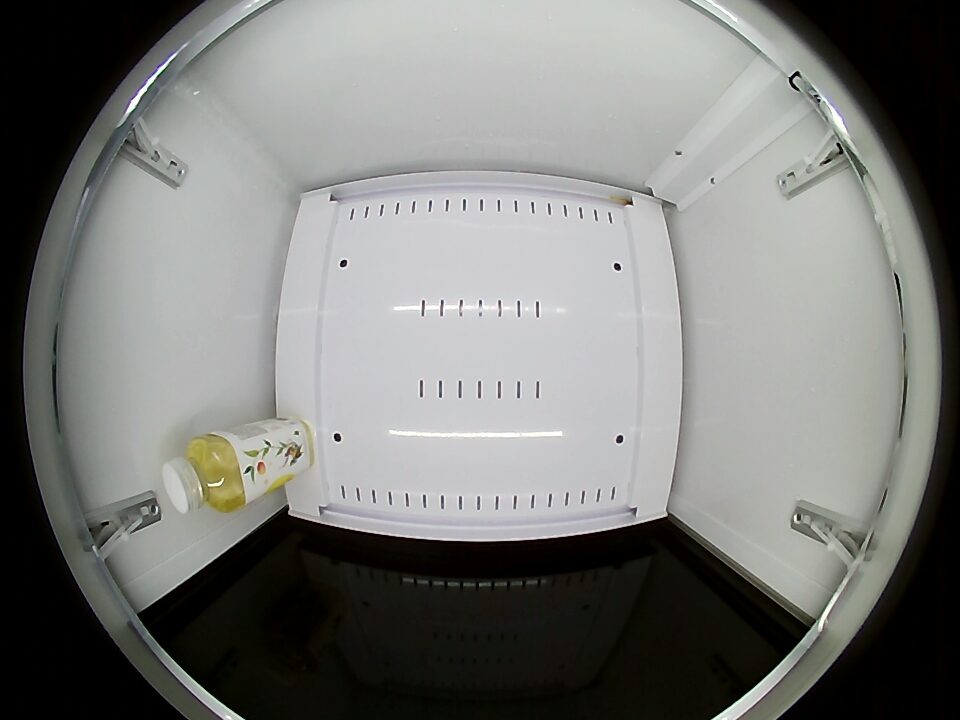chapai2: (162, 432, 247, 515)
